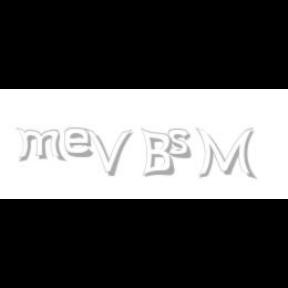B: (140, 128, 174, 178)
M: (196, 128, 254, 180)
V: (85, 128, 133, 176)
e: (64, 128, 98, 158)
m: (15, 128, 67, 162)
s: (168, 128, 196, 160)
